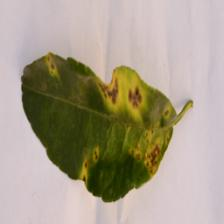canker: (73, 57, 171, 183)
